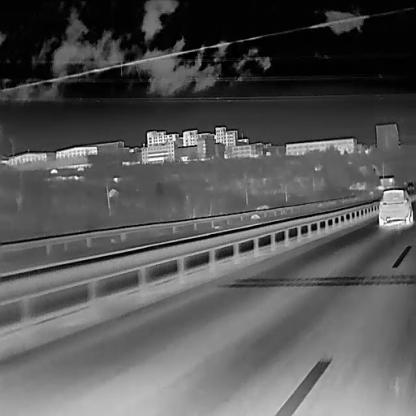car: (377, 187, 413, 226), (406, 181, 413, 189)
